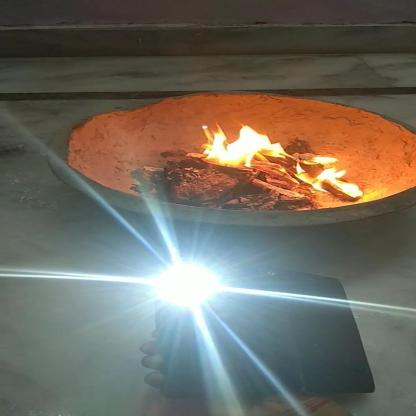fire: (189, 119, 290, 170), (289, 152, 371, 202)
